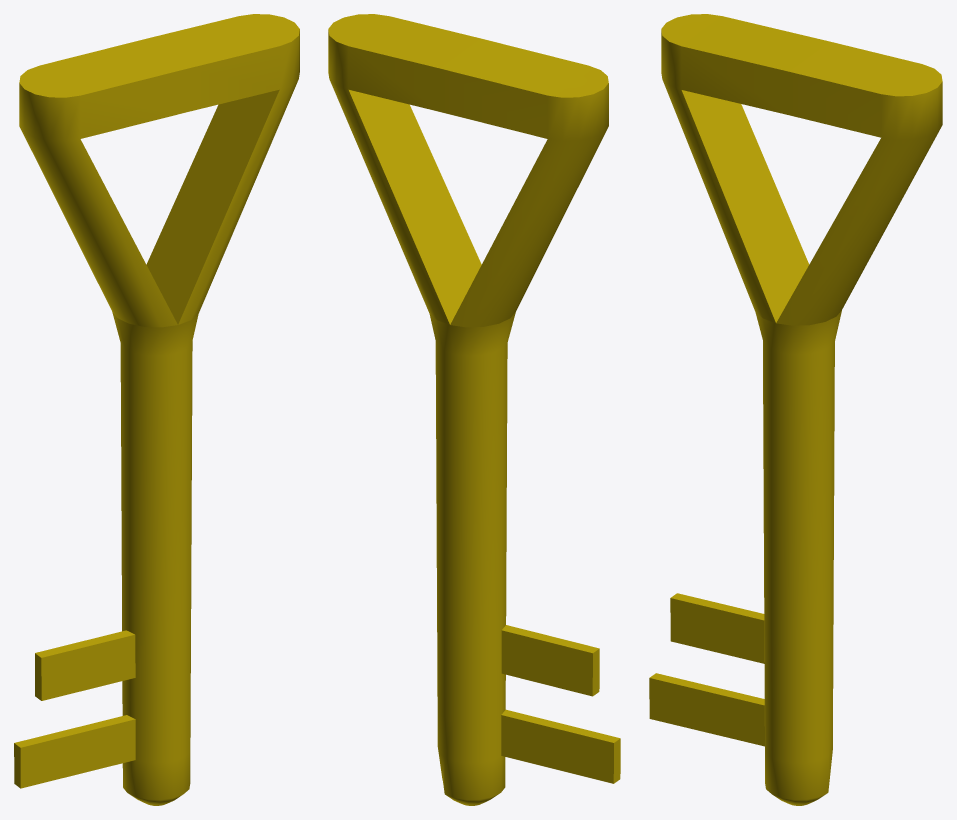
The model's file is SM_TriangleKey.fbx.
The picture shows the model from 3 angles, left to right: view 1: azimuth 30°, elevation 25°; view 2: azimuth 150°, elevation 25°; view 3: azimuth 330°, elevation 25°; orthographic projection.
Parts seen in each view (by area): view 1: SM_TriangleKey; view 2: SM_TriangleKey; view 3: SM_TriangleKey.
Boxes of the visible parts, box(x1,y1,x2,y2) form: SM_TriangleKey: box(14, 14, 299, 805); SM_TriangleKey: box(328, 14, 620, 805); SM_TriangleKey: box(649, 14, 942, 805).
Bounding box in the file's own units: 19.49 × 49.74 × 5.32.
